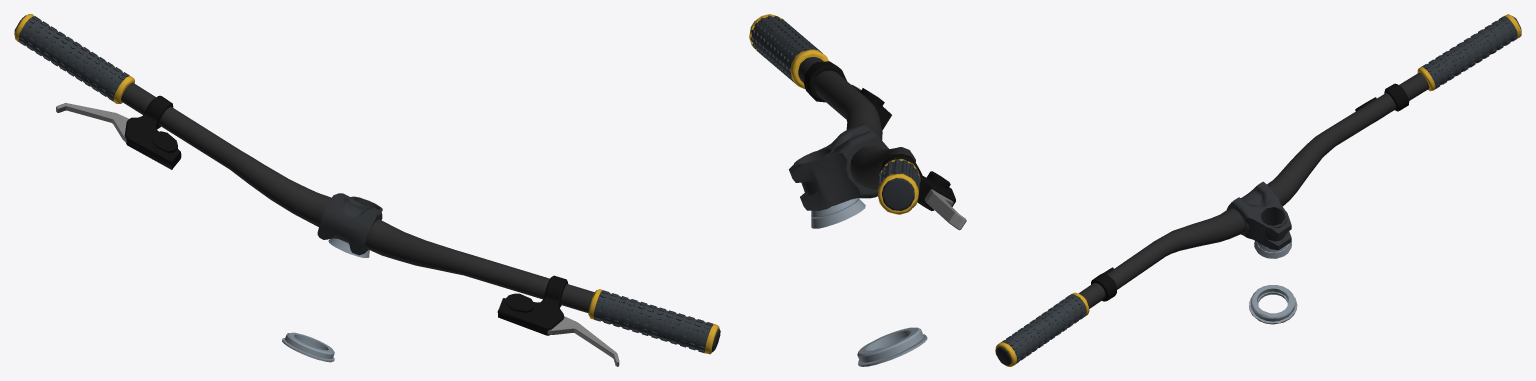
Rendered from cockpit_LOD0.fbx.
3 views of the same model, side by side, from view 1: azimuth 30°, elevation 25°; view 2: azimuth 150°, elevation 25°; view 3: azimuth 270°, elevation 25° (orthographic). The views are drawn at different scales.
Visible parts, largest first — view 1: MM_carbon_n0481_bar, MM_carbon_n0486_left_grip, MM_carbon_n0497_right_grip, MM_carbon_n0505_stem, MM_carbon_n0460_brake_control_1, MM_carbon_n0466_brake_control_2, MM_carbon_n0469_brake_control_2, MM_carbon_n0463_brake_control_1, MM_carbon_n0730_headset_lower; view 2: MM_carbon_n0505_stem, MM_carbon_n0481_bar, MM_carbon_n0486_left_grip, MM_carbon_n0730_headset_lower, MM_carbon_n0466_brake_control_2, MM_carbon_n0460_brake_control_1, MM_carbon_n0727_headset_upper, MM_carbon_n0501_right_grip, MM_carbon_n0463_brake_control_1, MM_carbon_n0497_right_grip, MM_carbon_n0499_right_grip, MM_carbon_n0484_left_grip (+1 smaller); view 3: MM_carbon_n0481_bar, MM_carbon_n0497_right_grip, MM_carbon_n0505_stem, MM_carbon_n0486_left_grip, MM_carbon_n0730_headset_lower, MM_carbon_n0460_brake_control_1.
Part boxes in pixels (x1,y1,x2,y2): MM_carbon_n0481_bar: (121,82,594,312); MM_carbon_n0486_left_grip: (593,290,713,353); MM_carbon_n0497_right_grip: (18,16,129,101); MM_carbon_n0505_stem: (317,193,382,255); MM_carbon_n0460_brake_control_1: (124,95,181,169); MM_carbon_n0466_brake_control_2: (497,275,568,335); MM_carbon_n0469_brake_control_2: (547,316,619,366); MM_carbon_n0463_brake_control_1: (56,103,128,142); MM_carbon_n0730_headset_lower: (285,332,334,358); MM_carbon_n0505_stem: (789,123,888,210); MM_carbon_n0481_bar: (798,57,915,189); MM_carbon_n0486_left_grip: (750,15,822,83); MM_carbon_n0730_headset_lower: (857,327,923,362); MM_carbon_n0466_brake_control_2: (804,61,891,130); MM_carbon_n0460_brake_control_1: (880,154,955,210); MM_carbon_n0727_headset_upper: (811,198,865,228); MM_carbon_n0501_right_grip: (881,178,914,210); MM_carbon_n0463_brake_control_1: (925,189,966,230); MM_carbon_n0497_right_grip: (878,159,919,207); MM_carbon_n0499_right_grip: (878,173,918,214); MM_carbon_n0484_left_grip: (790,49,828,89); MM_carbon_n0481_bar: (1079,72,1429,308); MM_carbon_n0497_right_grip: (1421,16,1517,88); MM_carbon_n0505_stem: (1226,181,1291,250); MM_carbon_n0486_left_grip: (1000,294,1086,364); MM_carbon_n0730_headset_lower: (1251,285,1295,321); MM_carbon_n0460_brake_control_1: (1355,83,1409,121).
Bounding box in the file's own units: 0.4795 × 0.3089 × 0.6125.
